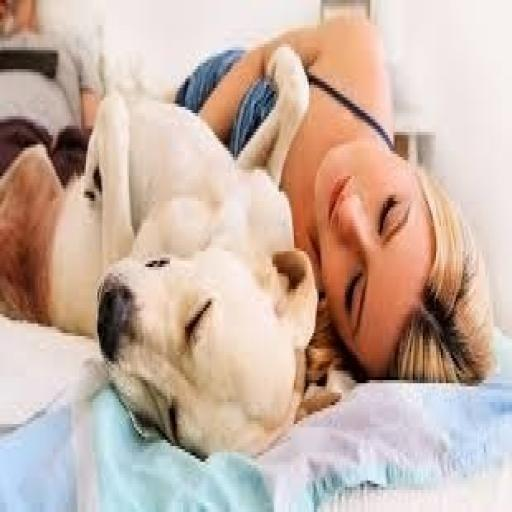sleeping: (0, 6, 497, 459)
